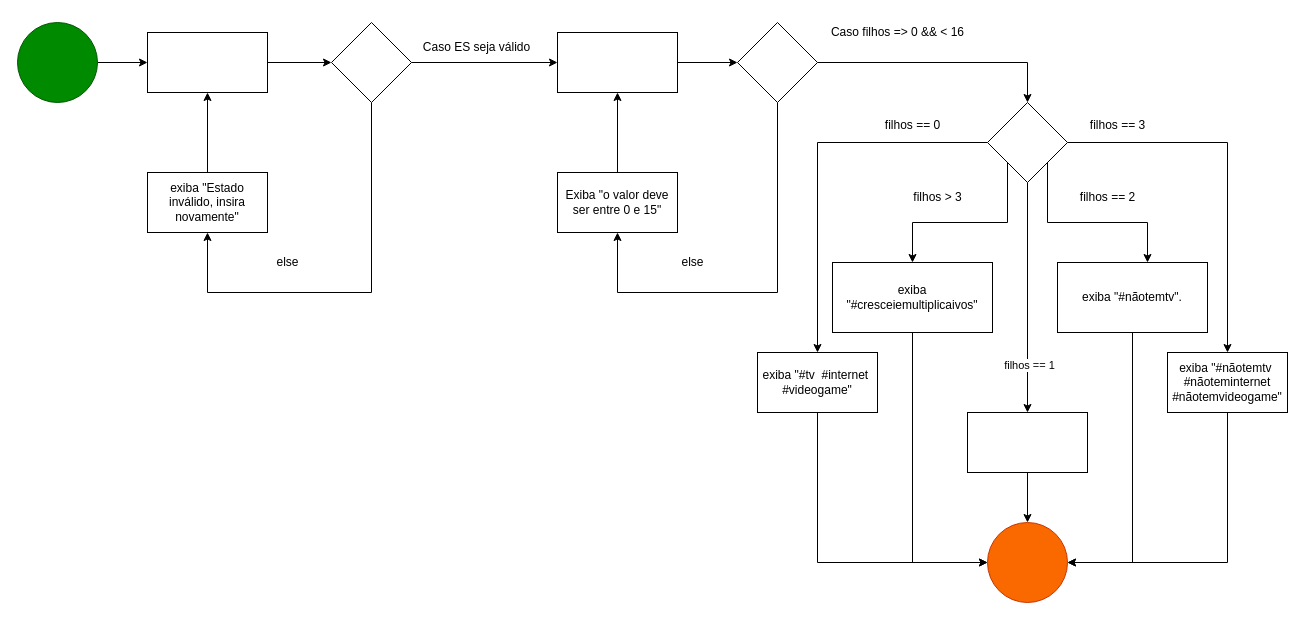
This 1305x620 diagram has some shape labels left out. Here are the shapes that lost their labels. From the top down, the centre of each, then its label:
[207,62]: Leia Estado de Nascimento ( ES )
[617,62]: Leia quantidade de " filhos"
[1027,442]: exiba "#nãotemvideogame".
